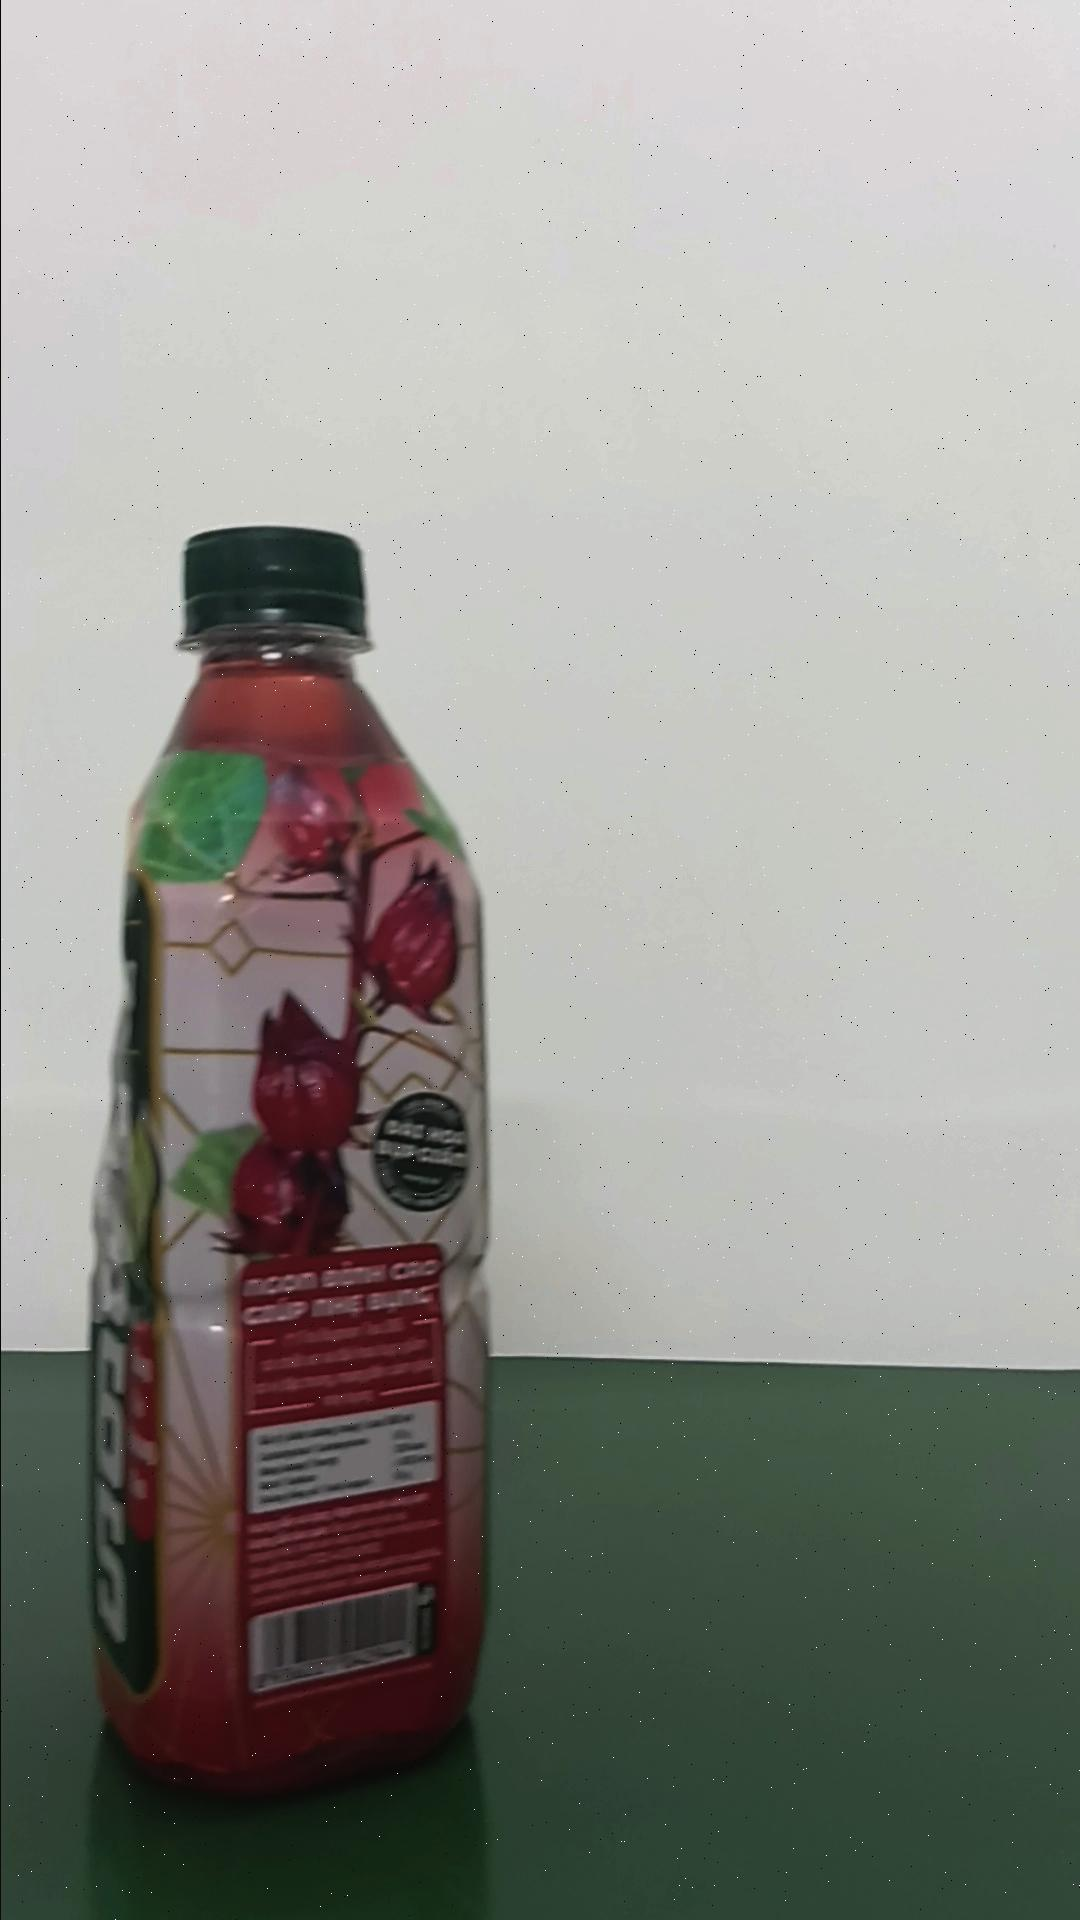loi meo sp: (84, 522, 496, 1797)
